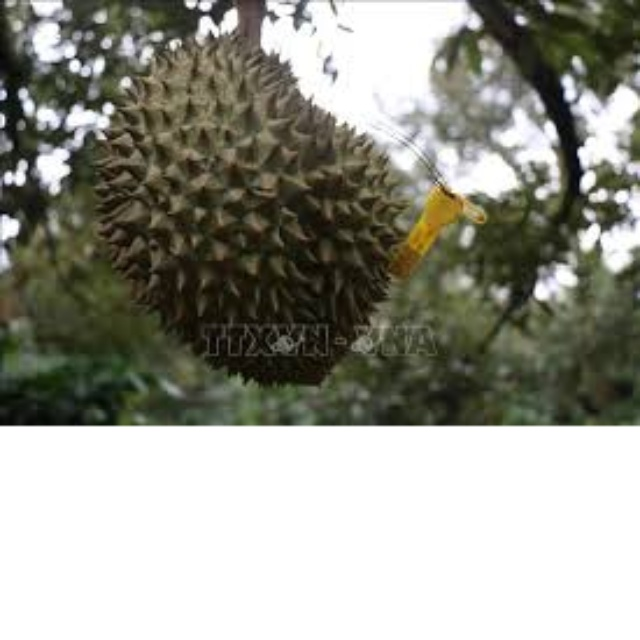sau_rieng: (92, 26, 408, 390)
